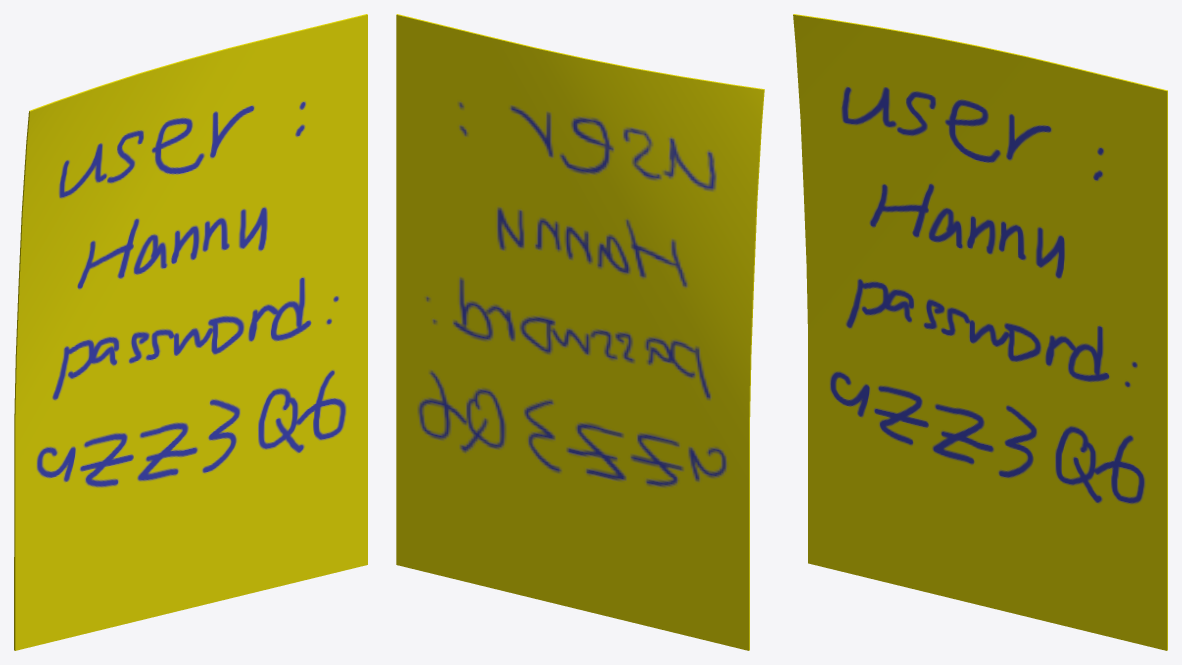
The model's file is passwordnoteglb.glb.
3 views of the same model, side by side, from view 1: azimuth 30°, elevation 25°; view 2: azimuth 150°, elevation 25°; view 3: azimuth 330°, elevation 25° (orthographic).
Visible parts, largest first — view 1: node_id30; view 2: node_id30; view 3: node_id30.
Boxes of the visible parts, bbox=[...] form: node_id30: bbox=[14, 14, 367, 650]; node_id30: bbox=[396, 14, 764, 650]; node_id30: bbox=[793, 14, 1167, 650].
Size of the model in its own units: 0.3434 by 0.512 by 0.0267.
1 material, 1 textured.
